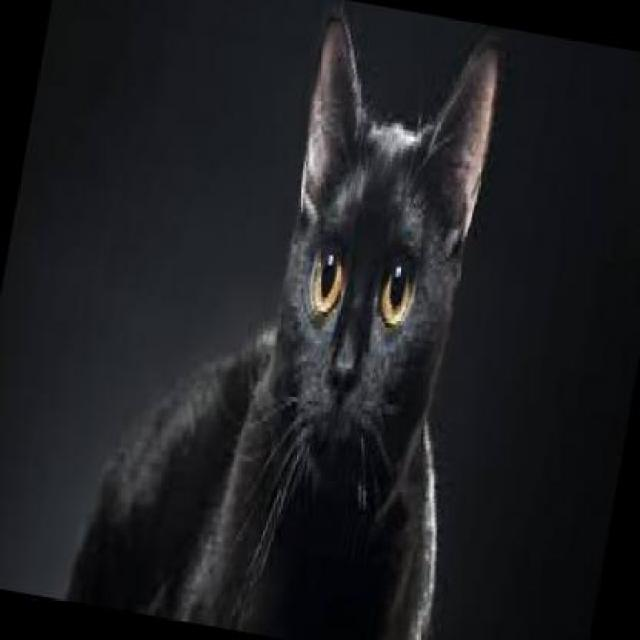animals: (56, 0, 535, 638)
